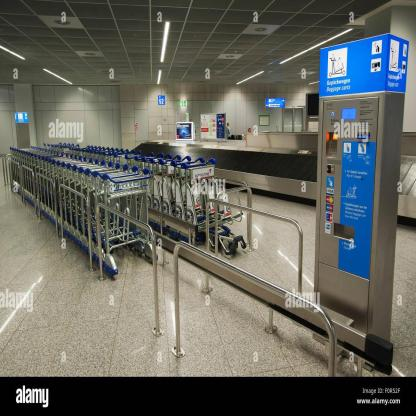airport-trolley: (179, 157, 246, 257), (97, 167, 157, 278)
